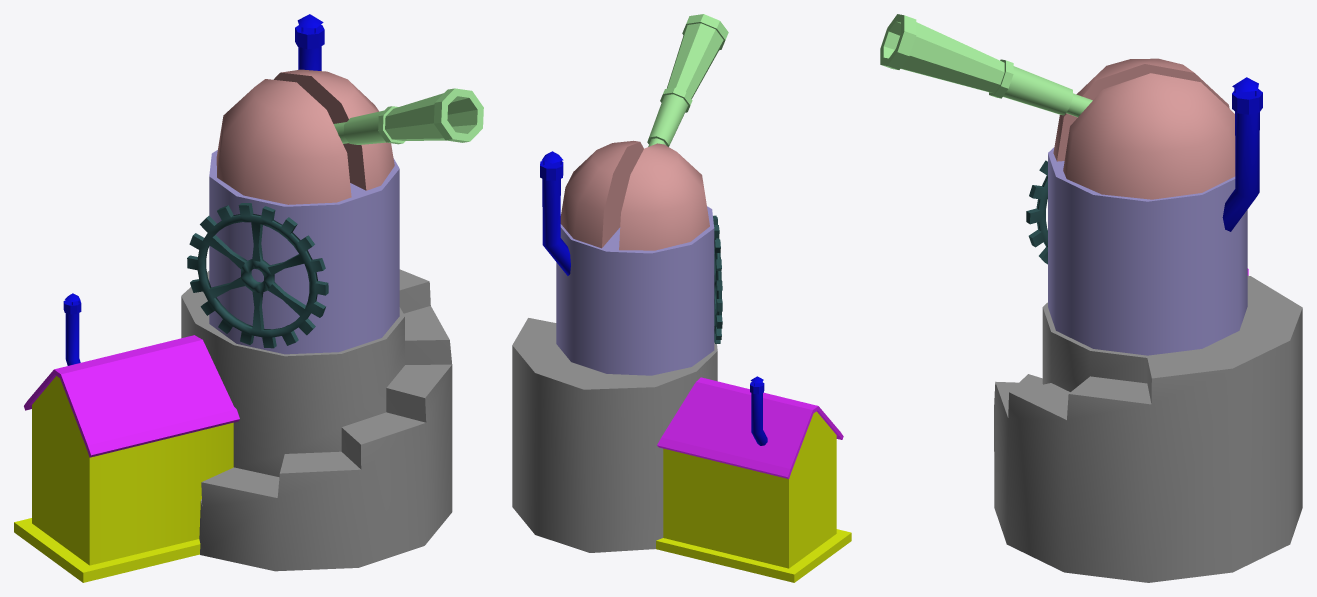
The model's file is canonhouse origin.FBX.
The picture shows the model from 3 angles, left to right: view 1: azimuth 30°, elevation 25°; view 2: azimuth 150°, elevation 25°; view 3: azimuth 270°, elevation 25°; orthographic projection. The views are drawn at different scales.
Parts seen in each view (by area): view 1: Cylinder002; view 2: Cylinder002; view 3: Cylinder002.
Boxes of the visible parts, x1=… form: Cylinder002: x1=14, y1=14, x2=483, y2=582; Cylinder002: x1=512, y1=14, x2=851, y2=582; Cylinder002: x1=880, y1=14, x2=1302, y2=582.
Size of the model in its own units: 53.53 by 68.97 by 50.79.
